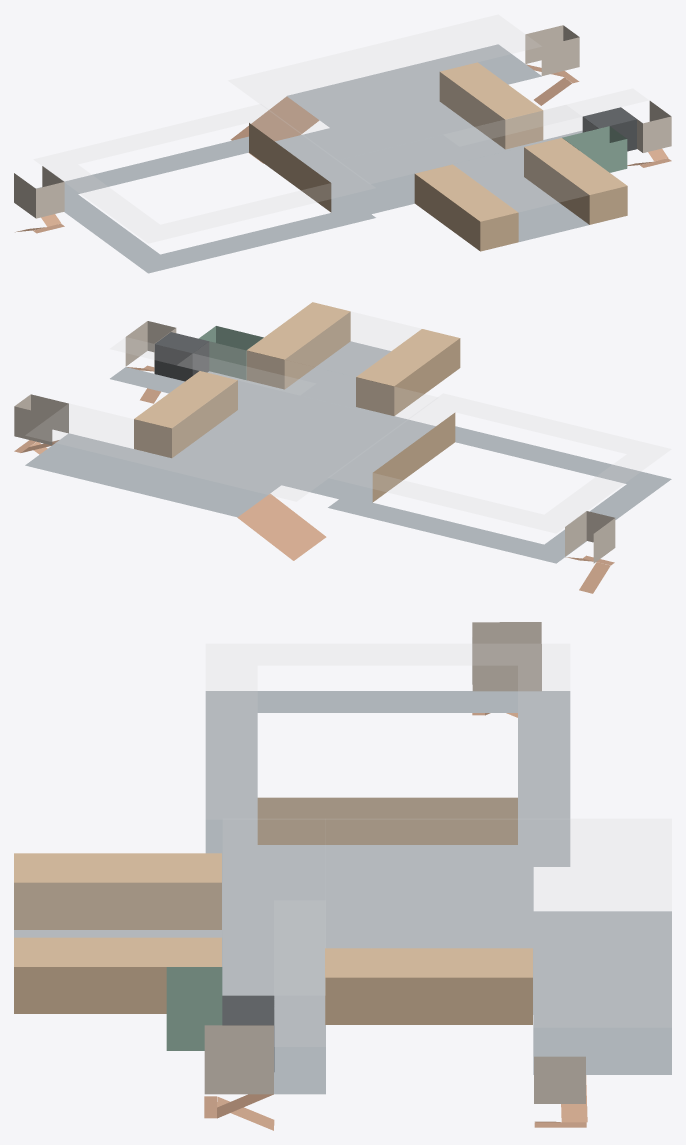
3 views of the same model, one above another, from view 1: azimuth 30°, elevation 25°; view 2: azimuth 150°, elevation 25°; view 3: azimuth 270°, elevation 25° (orthographic). The views are drawn at different scales.
Visible parts, largest first — view 1: 立方體.099, Cube.011, 平面.003, 平面.006, Cube.021, 平面.007, 平面.005, 立方體.183, 立方體.001, 立方體.162, 立方體.161, 立方體.166 (+12 smaller); view 2: 立方體.099, Cube.011, 平面.003, 平面.006, 平面.007, Cube.021, 平面.005, 立方體.001, 立方體.183, 立方體.160, 立方體.163, 立方體.165 (+14 smaller); view 3: 立方體.099, Cube.021, Cube.011, 平面.003, 平面.006, 平面.007, 平面.005, 立方體.001, Cube.022, 立方體.183, 立方體.165, 立方體.162 (+12 smaller).
Boxes of the visible parts, x1,y1,x2,y2 form: 立方體.099: (275,101,531,214); Cube.011: (34,104,374,242); 平面.003: (229,15,540,111); 平面.006: (273,72,504,159); Cube.021: (36,136,375,273); 平面.007: (287,44,541,127); 平面.005: (339,105,597,183); 立方體.183: (454,147,587,211); 立方體.001: (338,134,567,213); 立方體.162: (556,162,627,224); 立方體.161: (447,188,518,251); 立方體.166: (472,86,543,149); 立方體.099: (172,380,435,499); Cube.011: (328,394,670,532); 平面.003: (26,404,338,501); 平面.006: (173,381,404,468); 平面.007: (25,433,281,517); Cube.021: (328,426,671,563); 平面.005: (178,342,437,420); 立方體.001: (208,371,433,450); 立方體.183: (285,312,420,376); 立方體.160: (356,353,427,415); 立方體.163: (246,326,317,389); 立方體.165: (134,395,204,458); 立方體.099: (221,867,533,1014); Cube.021: (205,691,570,866); Cube.011: (206,644,569,818); 平面.003: (534,819,671,1026); 平面.006: (326,819,532,947); 平面.007: (533,911,671,1074); 平面.005: (223,819,325,994); 立方體.001: (221,867,325,1042); Cube.022: (257,797,517,844); 立方體.183: (14,883,221,936); 立方體.165: (428,948,532,1024); 立方體.162: (14,937,118,1013).
Bounding box in the file's own units: 59.28 × 6.02 × 37.92.
